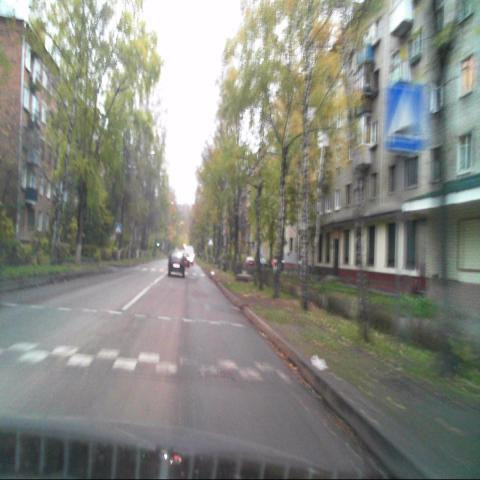5_20: (386, 82, 424, 154)
